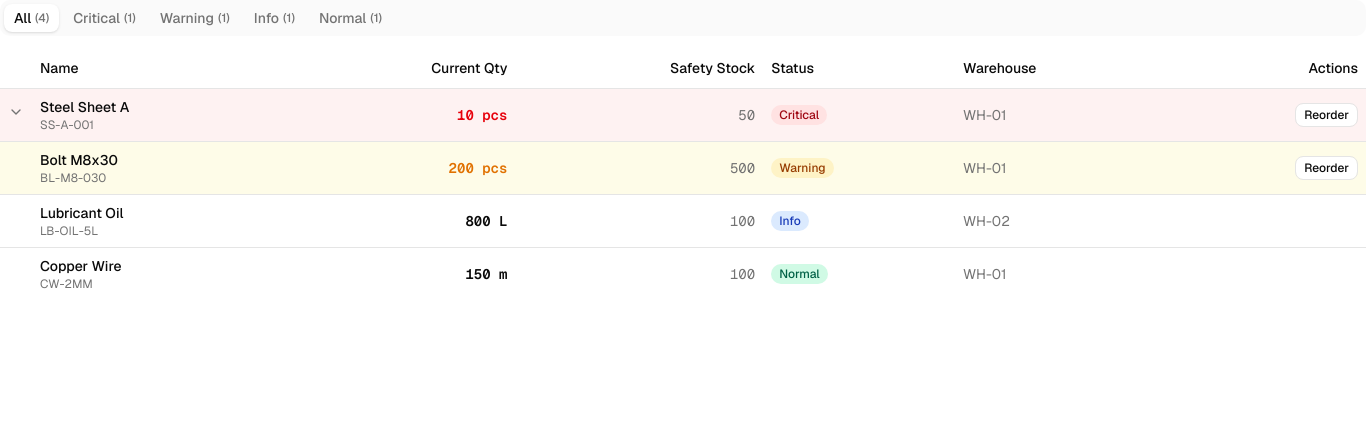
Test: InventoryAlertList › expandable rows show transactions
What coordinates should you click on to do the following:
click the button with test id "expand-1"
I would click on:
 (16, 112)
Its box is [8, 104, 24, 120].
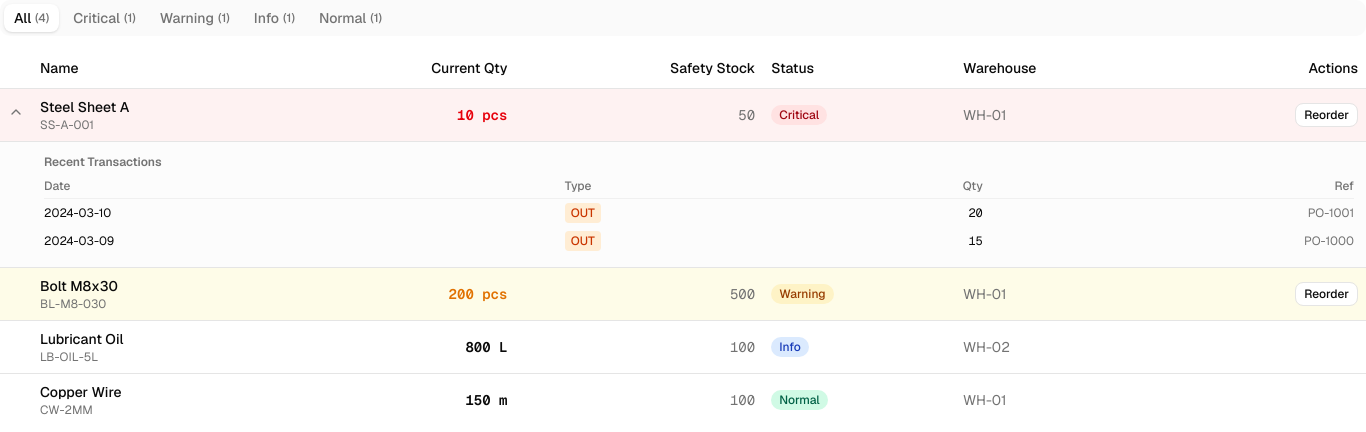
Expected: the text "Recent Transactions" is shown, [44, 154, 162, 170]
Expected: the text "PO-1001" is shown, [983, 198, 1354, 226]
